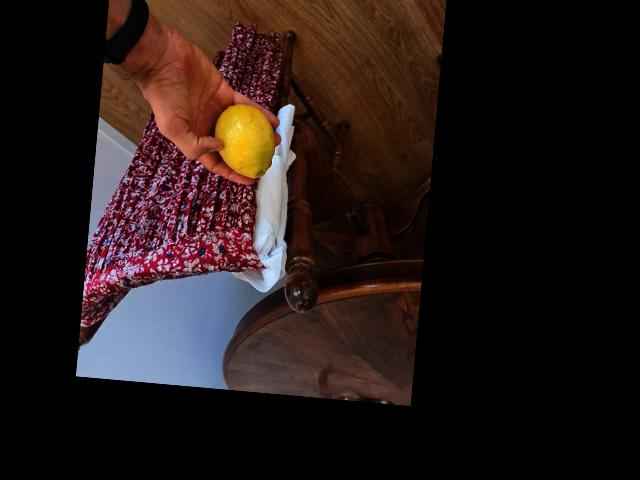lemon: (210, 101, 279, 179)
